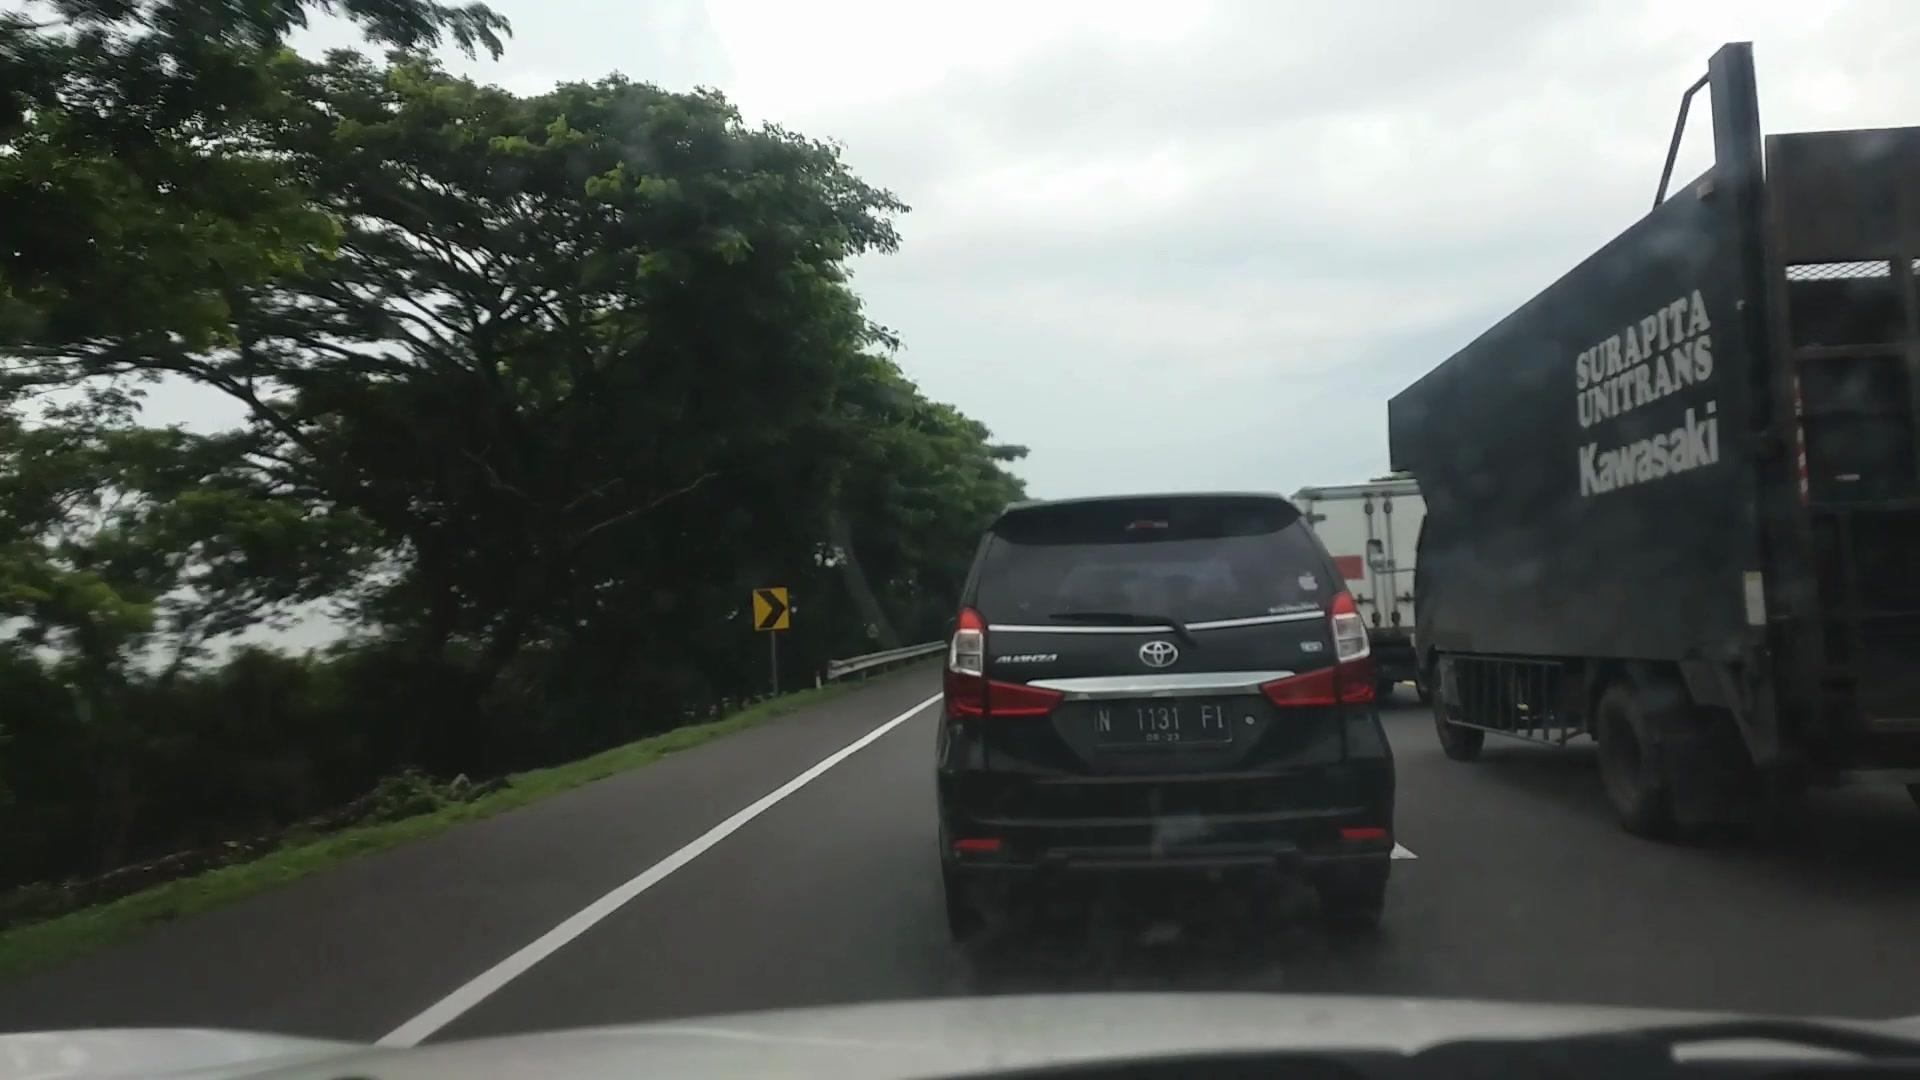plate_positive: (1093, 699, 1230, 744)
